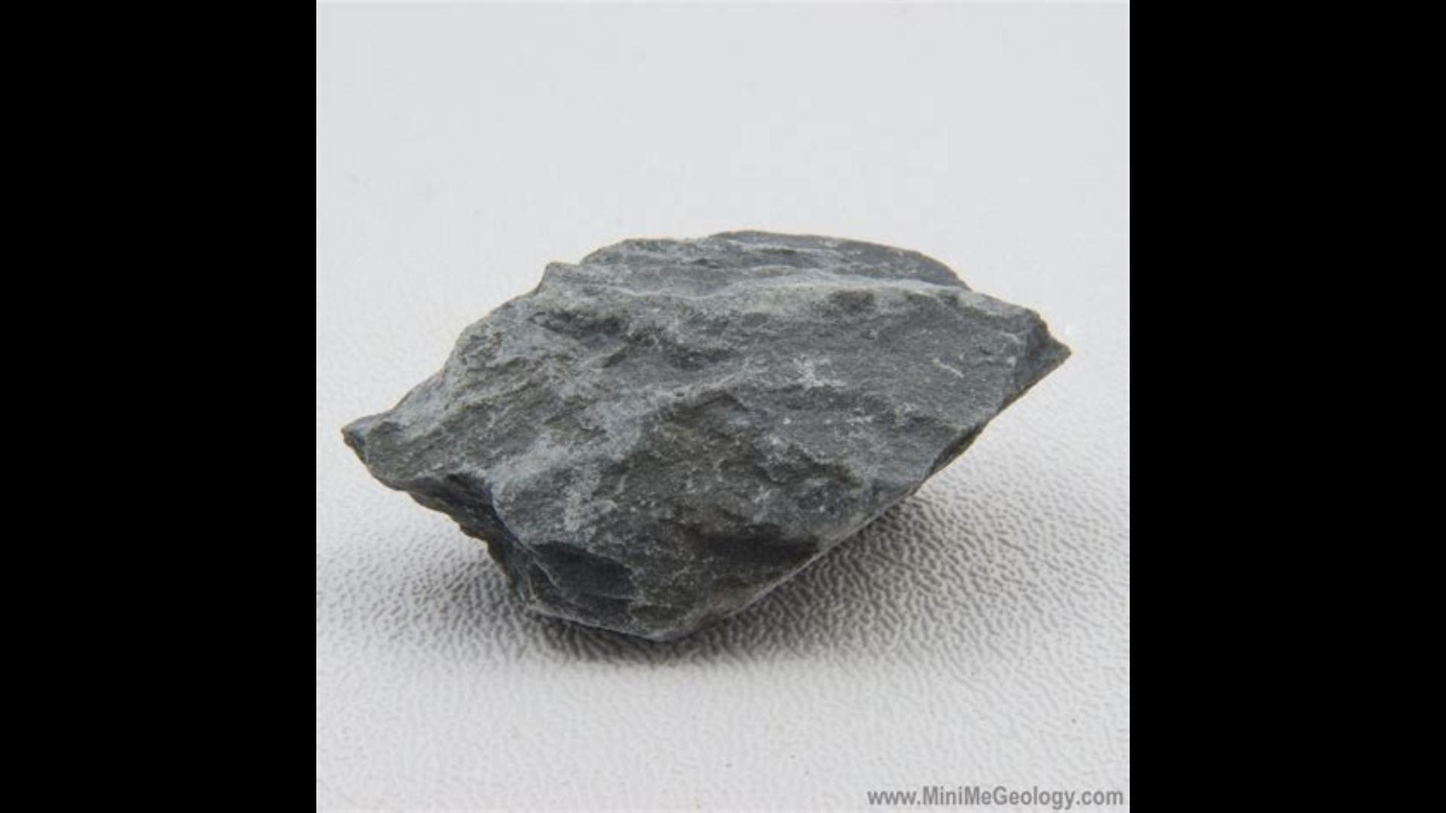rock: (344, 232, 1066, 638)
